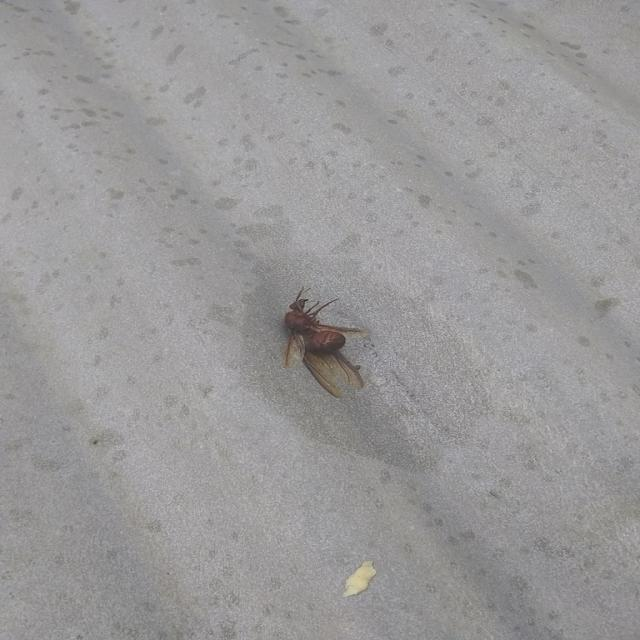Alive-Female-Alate: (284, 286, 364, 398)
